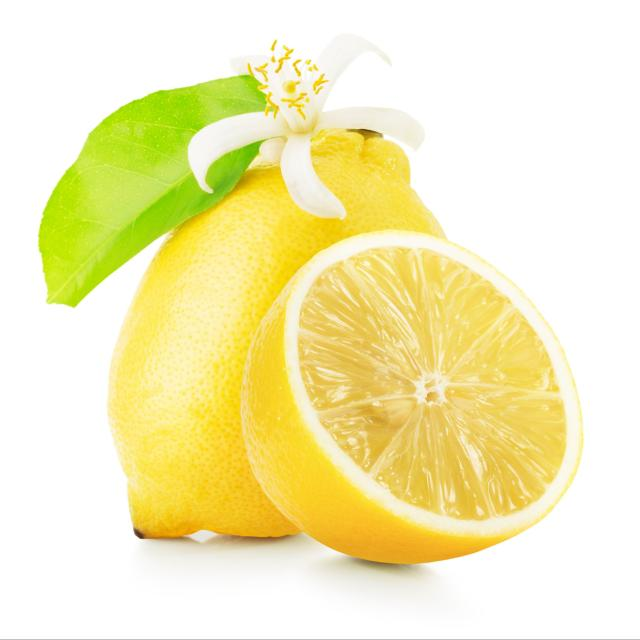lemon: (231, 223, 588, 570)
